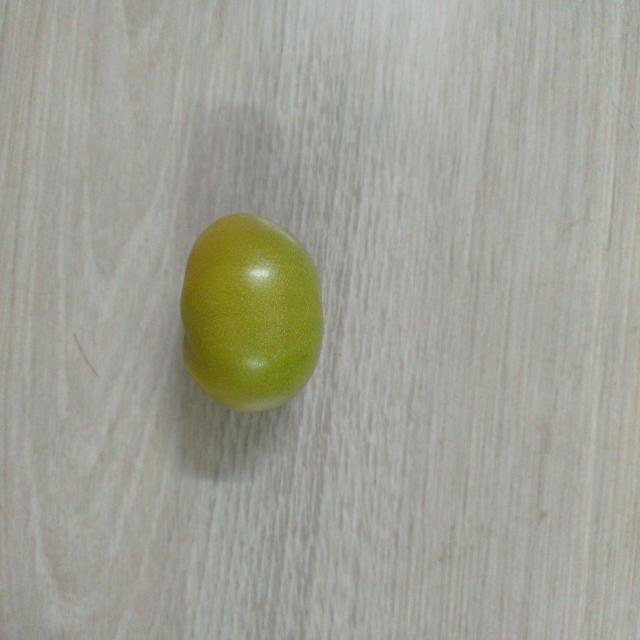Tomato: (178, 211, 328, 416)
